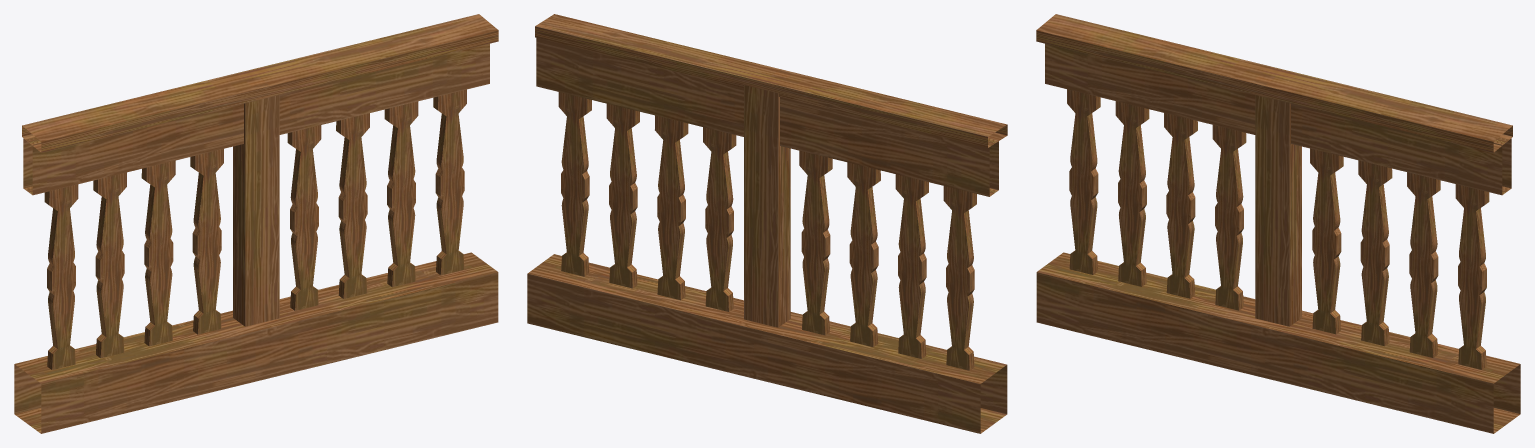
Rendered from wall-qm-balconysimplestraight.glb.
3 views of the same model, side by side, from view 1: azimuth 30°, elevation 25°; view 2: azimuth 150°, elevation 25°; view 3: azimuth 330°, elevation 25° (orthographic).
Parts seen in each view (by area): view 1: Cube_076; view 2: Cube_076; view 3: Cube_076.
Part boxes in pixels (x1,y1,x2,y2): Cube_076: (14, 14, 498, 433); Cube_076: (527, 14, 1007, 433); Cube_076: (1036, 14, 1520, 433).
Bounding box in the file's own units: 2 × 1.23 × 0.2063.
Materials: 1 (1 with a texture image).
